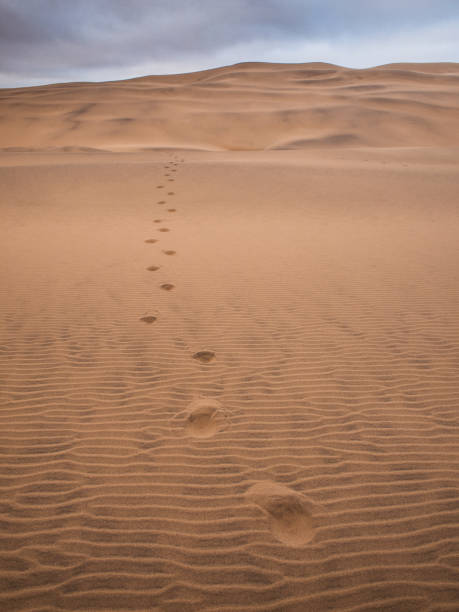human_footprint: (245, 481, 318, 546), (171, 397, 229, 439), (185, 400, 219, 437), (192, 350, 214, 362), (140, 315, 156, 323), (160, 283, 174, 290), (146, 265, 159, 271), (145, 238, 157, 243), (163, 249, 175, 254), (158, 227, 169, 231), (167, 208, 176, 212), (157, 200, 165, 204), (153, 219, 162, 222), (168, 192, 174, 195), (157, 185, 163, 188), (171, 168, 176, 171), (164, 173, 169, 176), (168, 179, 174, 181)
